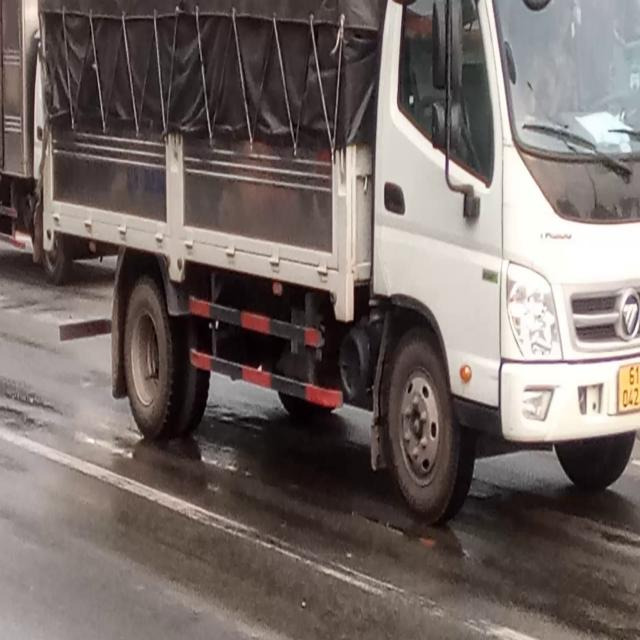bien_vang: (613, 363, 640, 412)
